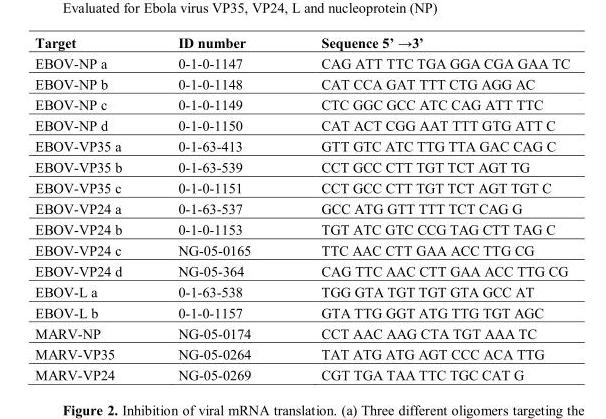table: (34, 34, 569, 382)
table column: (285, 34, 569, 382), (149, 34, 285, 382), (34, 34, 149, 382)
table column header: (34, 34, 569, 52)
table row: (34, 52, 569, 73), (34, 93, 569, 114), (34, 114, 569, 135), (34, 135, 569, 156), (34, 156, 569, 177), (34, 197, 569, 218), (34, 218, 569, 239), (34, 239, 569, 260), (34, 260, 569, 281), (34, 301, 569, 322), (34, 322, 569, 343), (34, 343, 569, 364), (34, 73, 569, 93), (34, 177, 569, 197), (34, 281, 569, 301), (34, 34, 569, 52), (34, 364, 569, 382)
